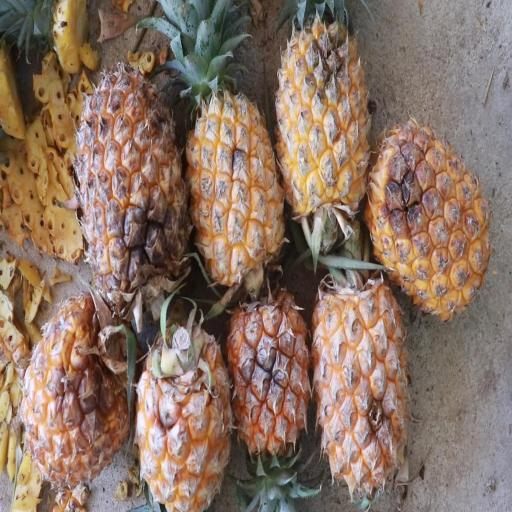Pineapple - v8 v1: (72, 52, 195, 329), (362, 103, 498, 332), (177, 23, 288, 295), (17, 275, 138, 512), (310, 255, 421, 512), (270, 3, 375, 232), (120, 301, 232, 511), (220, 274, 314, 506)
